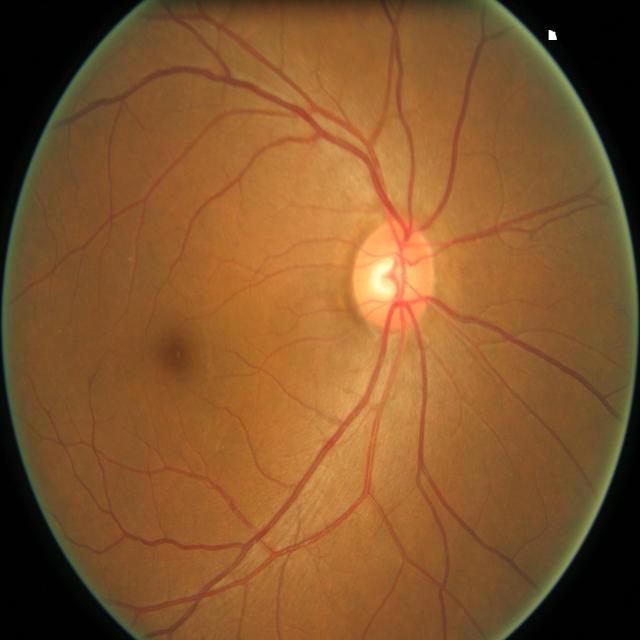OC: (369, 255, 412, 302)
OD: (349, 221, 433, 330)
